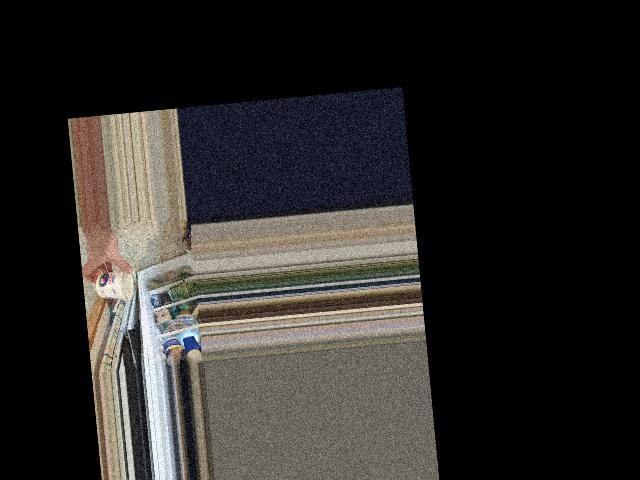cotage: (90, 261, 137, 305)
